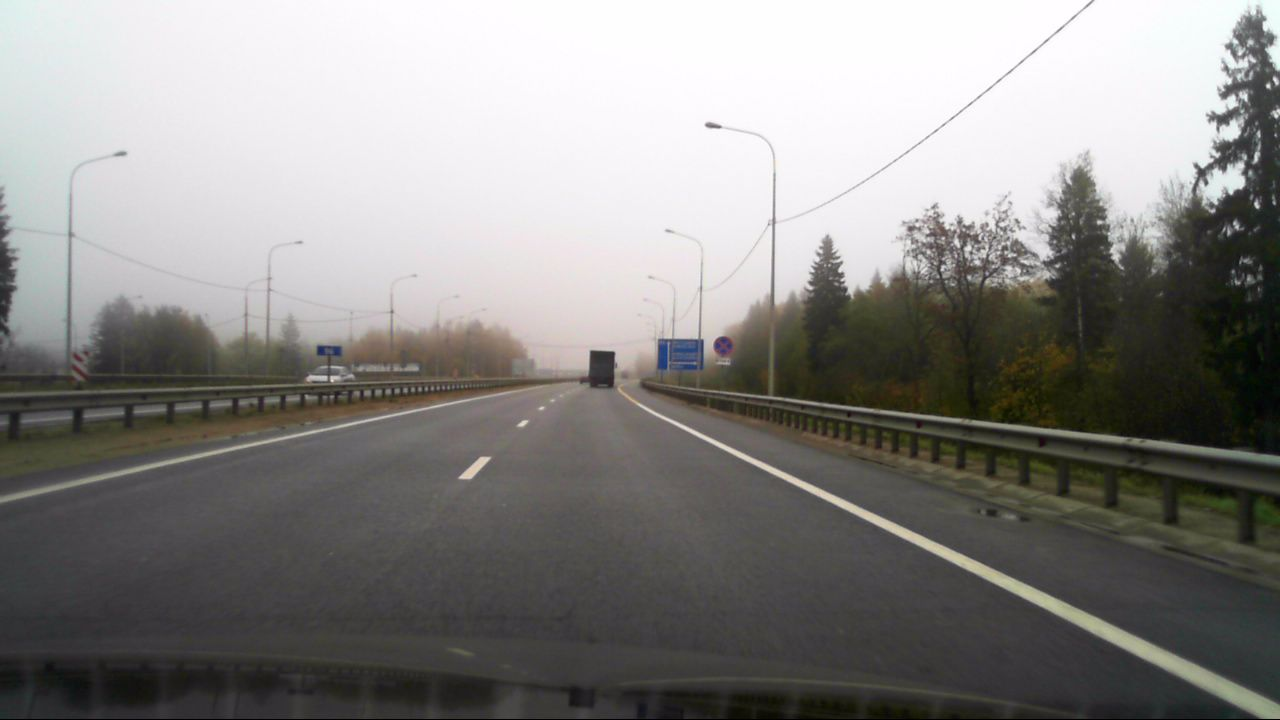No Parking: (713, 335, 733, 355)
